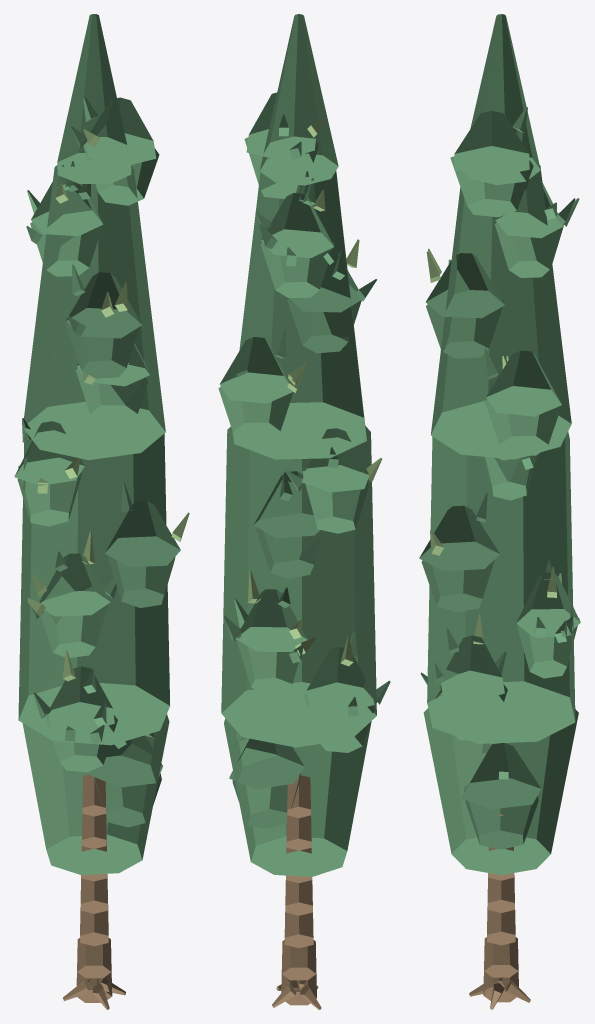
Rendered from poplar.glb.
3 views of the same model, side by side, from view 1: azimuth 30°, elevation 25°; view 2: azimuth 150°, elevation 25°; view 3: azimuth 270°, elevation 25° (orthographic).
Parts seen in each view (by area): view 1: Crown.Core#2, Crown.Core#3, Crown.Core, Crown.Core#4, Crown#8, Crown#14, Crown#18, Crown#6, Crown#4, Crown#13, Crown#5, Crown#7 (+16 smaller); view 2: Crown.Core#2, Crown.Core#3, Crown.Core, Crown.Core#4, Crown#12, Crown#16, Crown#4, Crown#6, Crown#10, Crown#2, Crown#15, Crown#9 (+16 smaller); view 3: Crown.Core#2, Crown.Core#3, Crown.Core, Crown.Core#4, Crown#18, Crown#2, Crown#8, Crown#12, Crown#14, Crown#4, Crown, Crown#7 (+12 smaller).
Boxes of the visible parts, left/top/right/bottom form: Crown.Core#2: left=18, top=432, right=170, bottom=745; Crown.Core#3: left=24, top=165, right=165, bottom=459; Crown.Core: left=22, top=714, right=169, bottom=875; Crown.Core#4: left=57, top=14, right=131, bottom=183; Crown#8: left=105, top=501, right=180, bottom=567; Crown#14: left=65, top=272, right=141, bottom=338; Crown#18: left=86, top=97, right=156, bottom=166; Crown#6: left=39, top=553, right=110, bottom=616; Crown#4: left=48, top=666, right=114, bottom=732; Crown#13: left=66, top=320, right=141, bottom=378; Crown#5: left=38, top=598, right=109, bottom=657; Crown#7: left=107, top=555, right=175, bottom=607; Crown.Core#2: left=221, top=426, right=376, bottom=747; Crown.Core#3: left=232, top=171, right=366, bottom=459; Crown.Core: left=224, top=718, right=371, bottom=876; Crown.Core#4: left=259, top=14, right=338, bottom=185; Crown#12: left=219, top=337, right=293, bottom=403; Crown#16: left=261, top=193, right=334, bottom=257; Crown#4: left=306, top=646, right=374, bottom=712; Crown#6: left=236, top=589, right=307, bottom=652; Crown#10: left=301, top=428, right=369, bottom=492; Crown#2: left=229, top=738, right=304, bottom=789; Crown#15: left=260, top=241, right=334, bottom=297; Crown#9: left=302, top=470, right=368, bottom=533; Crown.Core#2: left=427, top=431, right=575, bottom=743; Crown.Core#3: left=431, top=165, right=571, bottom=459; Crown.Core: left=423, top=708, right=578, bottom=875; Crown.Core#4: left=466, top=14, right=540, bottom=184; Crown#18: left=454, top=111, right=529, bottom=177; Crown#2: left=461, top=743, right=541, bottom=809; Crown#8: left=419, top=505, right=500, bottom=570; Crown#12: left=486, top=350, right=561, bottom=416; Crown#14: left=425, top=253, right=504, bottom=318; Crown#4: left=441, top=635, right=504, bottom=702; Crown: left=464, top=785, right=538, bottom=849; Crown#7: left=421, top=559, right=494, bottom=611.
Size of the model in its own units: 3 by 20.04 by 3.
